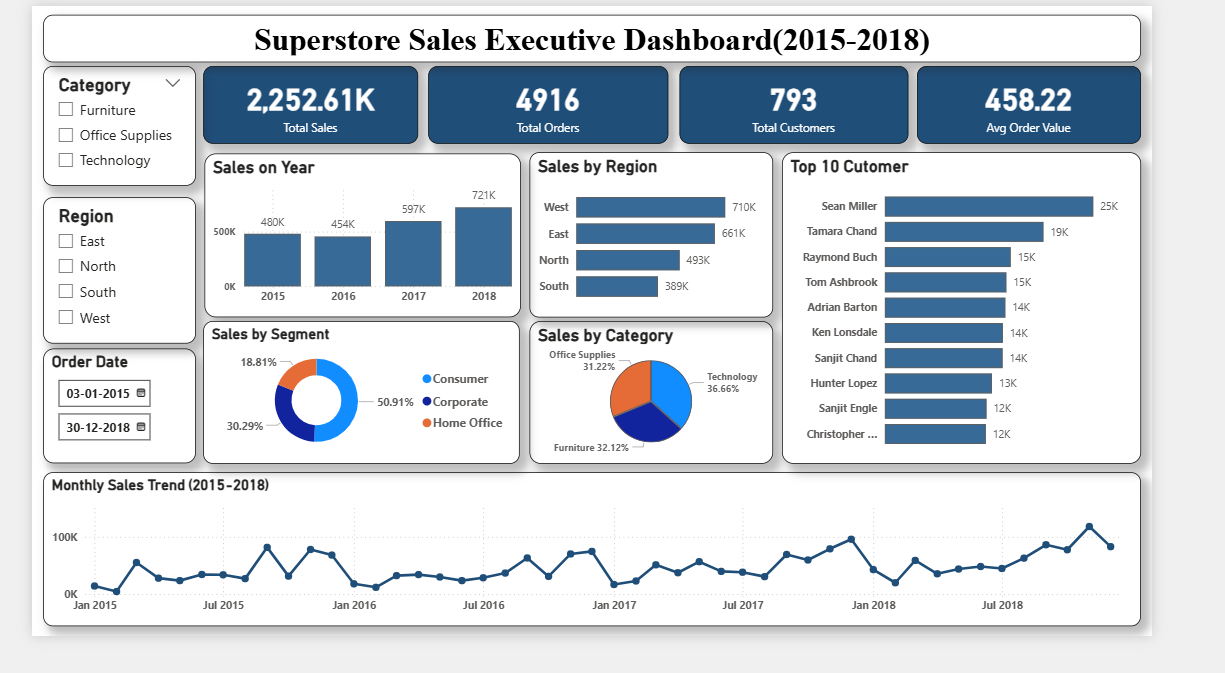

The page's visual inventory and layout, read from the dashboard file:
{"tool":"powerbi","page":{"name":"Page 1","canvas":[1280,720],"ordinal":0},"visuals":[{"type":"card","fields":{"Values":["public superstore_raw.Total Sales"]},"box":[195.7,68.6,245.7,88.6],"z":0},{"type":"card","fields":{"Values":["public superstore_raw.Total Orders"]},"box":[452.9,68.6,274.3,88.6],"z":1000},{"type":"card","fields":{"Values":["public superstore_raw.Total Customers"]},"box":[740,68.6,261.4,88.6],"z":2000},{"type":"card","fields":{"Values":["public superstore_raw.Avg Order Value"]},"box":[1011.4,68.6,255.7,88.6],"z":3000},{"type":"pieChart","title":"Sales by Category","fields":{"Category":["public superstore_raw.Category"],"Y":["Sum(public superstore_raw.Sales)"]},"box":[568.6,360,278.6,162.9],"z":4000},{"type":"barChart","title":"Sales by Region","fields":{"Category":["public superstore_raw.Region"],"Y":["Sum(public superstore_raw.Sales)"]},"box":[568.6,167.1,278.6,188.6],"z":5000},{"type":"slicer","title":"Order Date","fields":{"Values":["public superstore_raw.Order Date"]},"box":[12.9,391.4,174.3,131.4],"z":6000},{"type":"slicer","fields":{"Values":["public superstore_raw.Region"]},"box":[12.9,218.6,174.3,167.1],"z":7000},{"type":"slicer","fields":{"Values":["public superstore_raw.Category"]},"box":[12.9,68.6,174.3,137.1],"z":8000},{"type":"shape","box":[12.9,10,1254.3,54.3],"z":9000},{"type":"lineChart","title":"Monthly Sales Trend (2015-2018)","fields":{"Y":["Sum(public superstore_raw.Sales)"],"Category":["public superstore_raw.Order Date.Variation.Date Hierarchy.Year","public superstore_raw.Order Date.Variation.Date Hierarchy.Quarter","public superstore_raw.Order Date.Variation.Date Hierarchy.Month","public superstore_raw.Order Date.Variation.Date Hierarchy.Day"]},"box":[12.9,532.9,1254.3,175.7],"z":10000},{"type":"columnChart","title":"Sales on Year","fields":{"Category":["public superstore_raw.Order Date.Variation.Date Hierarchy.Year"],"Y":["Sum(public superstore_raw.Sales)"]},"box":[197.1,168.6,361.4,187.1],"z":11000},{"type":"donutChart","title":"Sales by Segment","fields":{"Category":["public superstore_raw.Segment"],"Y":["Sum(public superstore_raw.Sales)"]},"box":[195.7,360,361.4,162.9],"z":12000},{"type":"barChart","title":"Top 10 Cutomer","fields":{"Category":["public superstore_raw.Customer Name"],"Y":["Sum(public superstore_raw.Sales)"]},"box":[857.1,167.1,410,355.7],"z":13000}]}

Visuals, with their boxes in screenshot pixels (x1, y1, x2, y2), scaled from the page's 1280x720 canvas onto the 1225x673 screenshot:
card - public superstore_raw.Total Sales: <box>187,64,422,147</box>
card - public superstore_raw.Total Orders: <box>433,64,696,147</box>
card - public superstore_raw.Total Customers: <box>708,64,958,147</box>
card - public superstore_raw.Avg Order Value: <box>968,64,1213,147</box>
"Sales by Category" pieChart: <box>544,336,811,489</box>
"Sales by Region" barChart: <box>544,156,811,332</box>
"Order Date" slicer: <box>12,366,179,489</box>
slicer - public superstore_raw.Region: <box>12,204,179,361</box>
slicer - public superstore_raw.Category: <box>12,64,179,192</box>
shape: <box>12,9,1213,60</box>
"Monthly Sales Trend (2015-2018)" lineChart: <box>12,498,1213,662</box>
"Sales on Year" columnChart: <box>189,158,535,332</box>
"Sales by Segment" donutChart: <box>187,336,533,489</box>
"Top 10 Cutomer" barChart: <box>820,156,1213,489</box>
